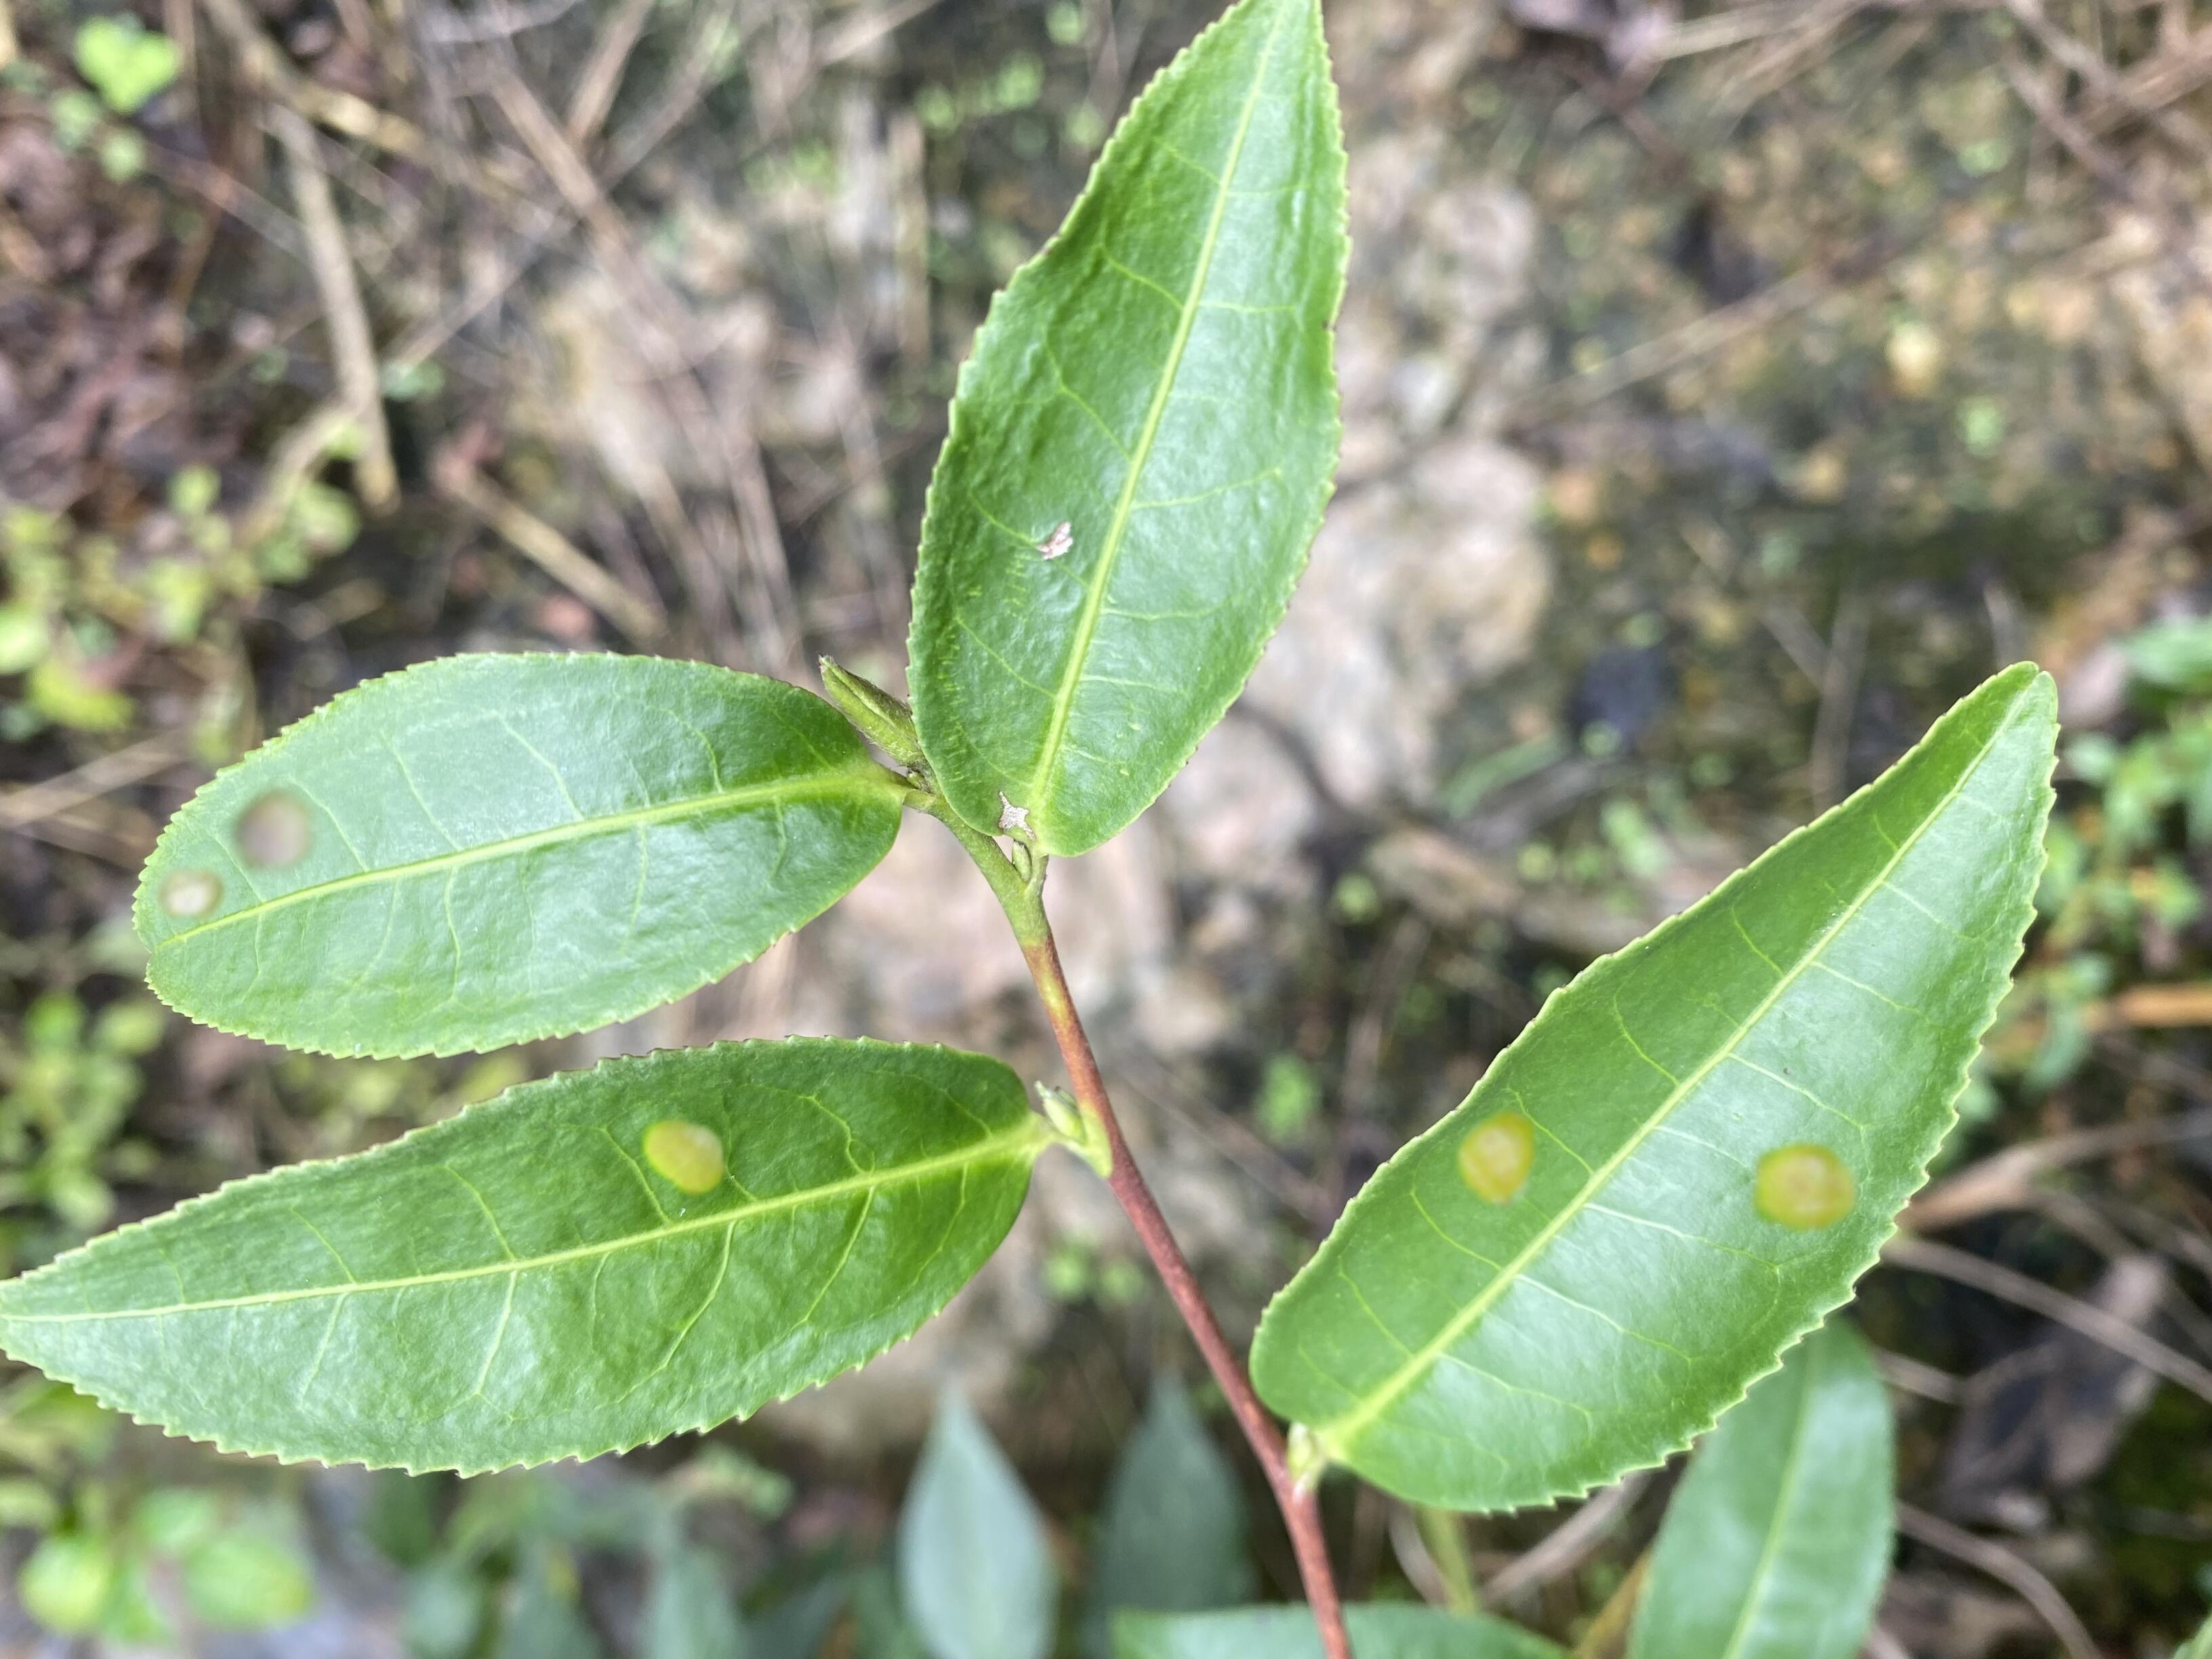chabing_high: (1249, 660, 2066, 1520), (131, 650, 909, 1061)
chabing_low: (2, 1032, 1038, 1478)
tanju_low: (906, 5, 1348, 863)
